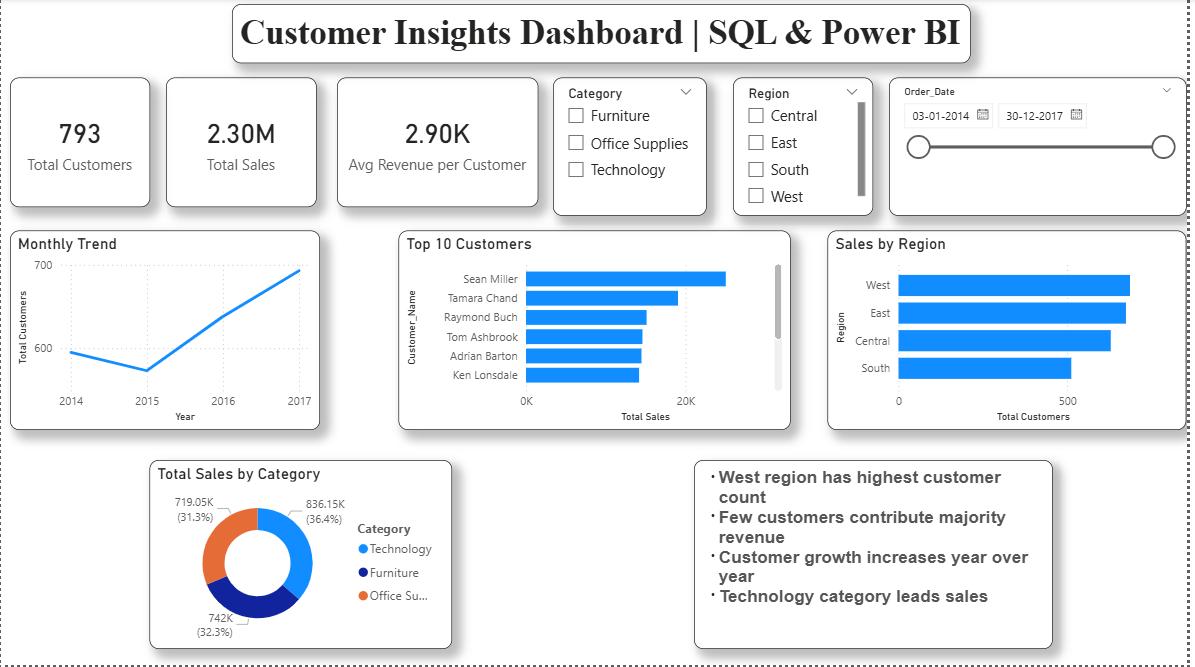

The dashboard page shown, as its layout file describes it:
{"tool":"powerbi","page":{"name":"Page 1","canvas":[1280,720],"ordinal":0},"visuals":[{"type":"card","fields":{"Values":["Orders.Avg Revenue"]},"box":[362.8,85,217.3,139.8],"z":0},{"type":"card","fields":{"Values":["Orders.Total Sales"]},"box":[177.6,85,162.5,139.8],"z":1000},{"type":"card","fields":{"Values":["Orders.Total Customers"]},"box":[9.4,85,151.2,139.8],"z":2000},{"type":"textbox","box":[249.5,5.7,797.5,64.3],"z":3000},{"type":"lineChart","title":"Monthly Trend","fields":{"Category":["Orders.Order_Date.Variation.Date Hierarchy.Year","Orders.Order_Date.Variation.Date Hierarchy.Month"],"Y":["Orders.Total Customers"]},"box":[9.4,251.3,334.5,215.4],"z":4000},{"type":"clusteredBarChart","title":"Top 10 Customers","fields":{"Category":["Orders.Customer_Name"],"Y":["Orders.Total Sales"]},"box":[429,251.3,423.3,215.4],"z":5000},{"type":"barChart","title":"Sales by Region","fields":{"Category":["Orders.Region"],"Y":["Orders.Total Customers"]},"box":[892,251.3,387.4,215.4],"z":6000},{"type":"donutChart","fields":{"Category":["Orders.Category"],"Y":["Orders.Total Sales"]},"box":[160.6,498.9,326.9,204.1],"z":7000},{"type":"slicer","fields":{"Values":["Orders.Category"]},"box":[595.3,85,166.3,149.3],"z":8000},{"type":"slicer","fields":{"Values":["Orders.Region"]},"box":[789.9,85,151.2,149.3],"z":9000},{"type":"slicer","fields":{"Values":["Orders.Order_Date"]},"box":[958.1,85,321.3,149.3],"z":10000},{"type":"textbox","box":[748.4,498.9,387.4,204.1],"z":11000}]}

Visuals, with their boxes in screenshot pixels (x1, y1, x2, y2), scaled from the page's 1280x720 canvas onto the 1195x667 screenshot:
card - Orders.Avg Revenue: <box>339,79,542,208</box>
card - Orders.Total Sales: <box>166,79,318,208</box>
card - Orders.Total Customers: <box>9,79,150,208</box>
textbox: <box>233,5,977,65</box>
"Monthly Trend" lineChart: <box>9,233,321,432</box>
"Top 10 Customers" clusteredBarChart: <box>401,233,796,432</box>
"Sales by Region" barChart: <box>833,233,1194,432</box>
donutChart - Orders.Category x Orders.Total Sales: <box>150,462,455,651</box>
slicer - Orders.Category: <box>556,79,711,217</box>
slicer - Orders.Region: <box>737,79,879,217</box>
slicer - Orders.Order_Date: <box>894,79,1194,217</box>
textbox: <box>699,462,1060,651</box>
